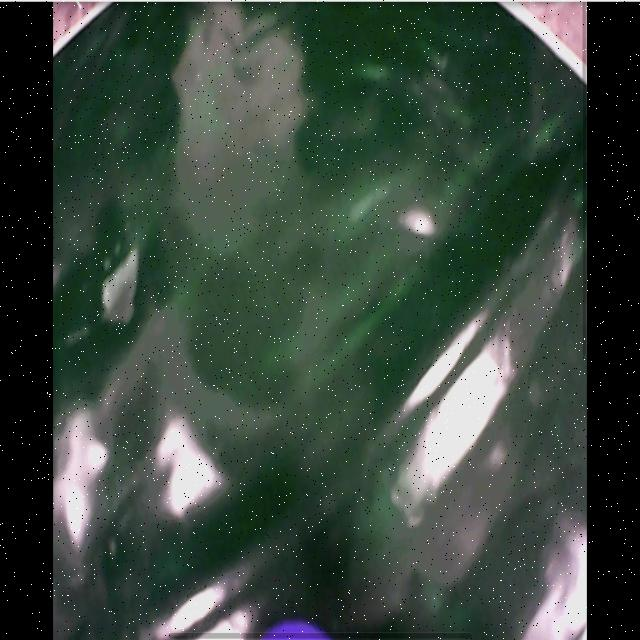ball: (255, 618, 330, 637)
